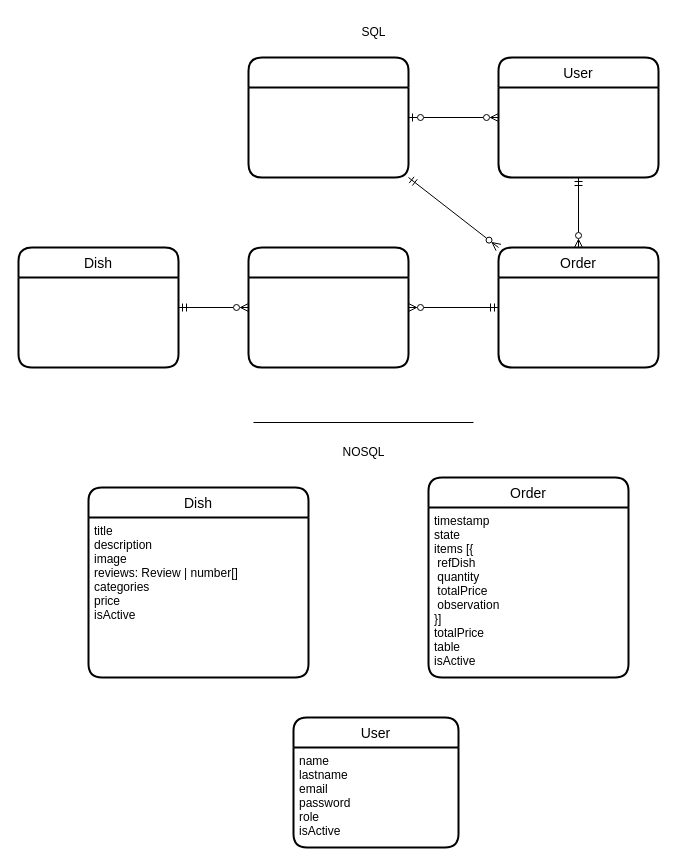
Some shapes in this 676 by 865 pixel diagram are drawn without their labels. Here are the shapes that lost their labels. From the top down, the centre of each, then its label:
point 328,117: Restaurant
point 328,307: ItemDetail
